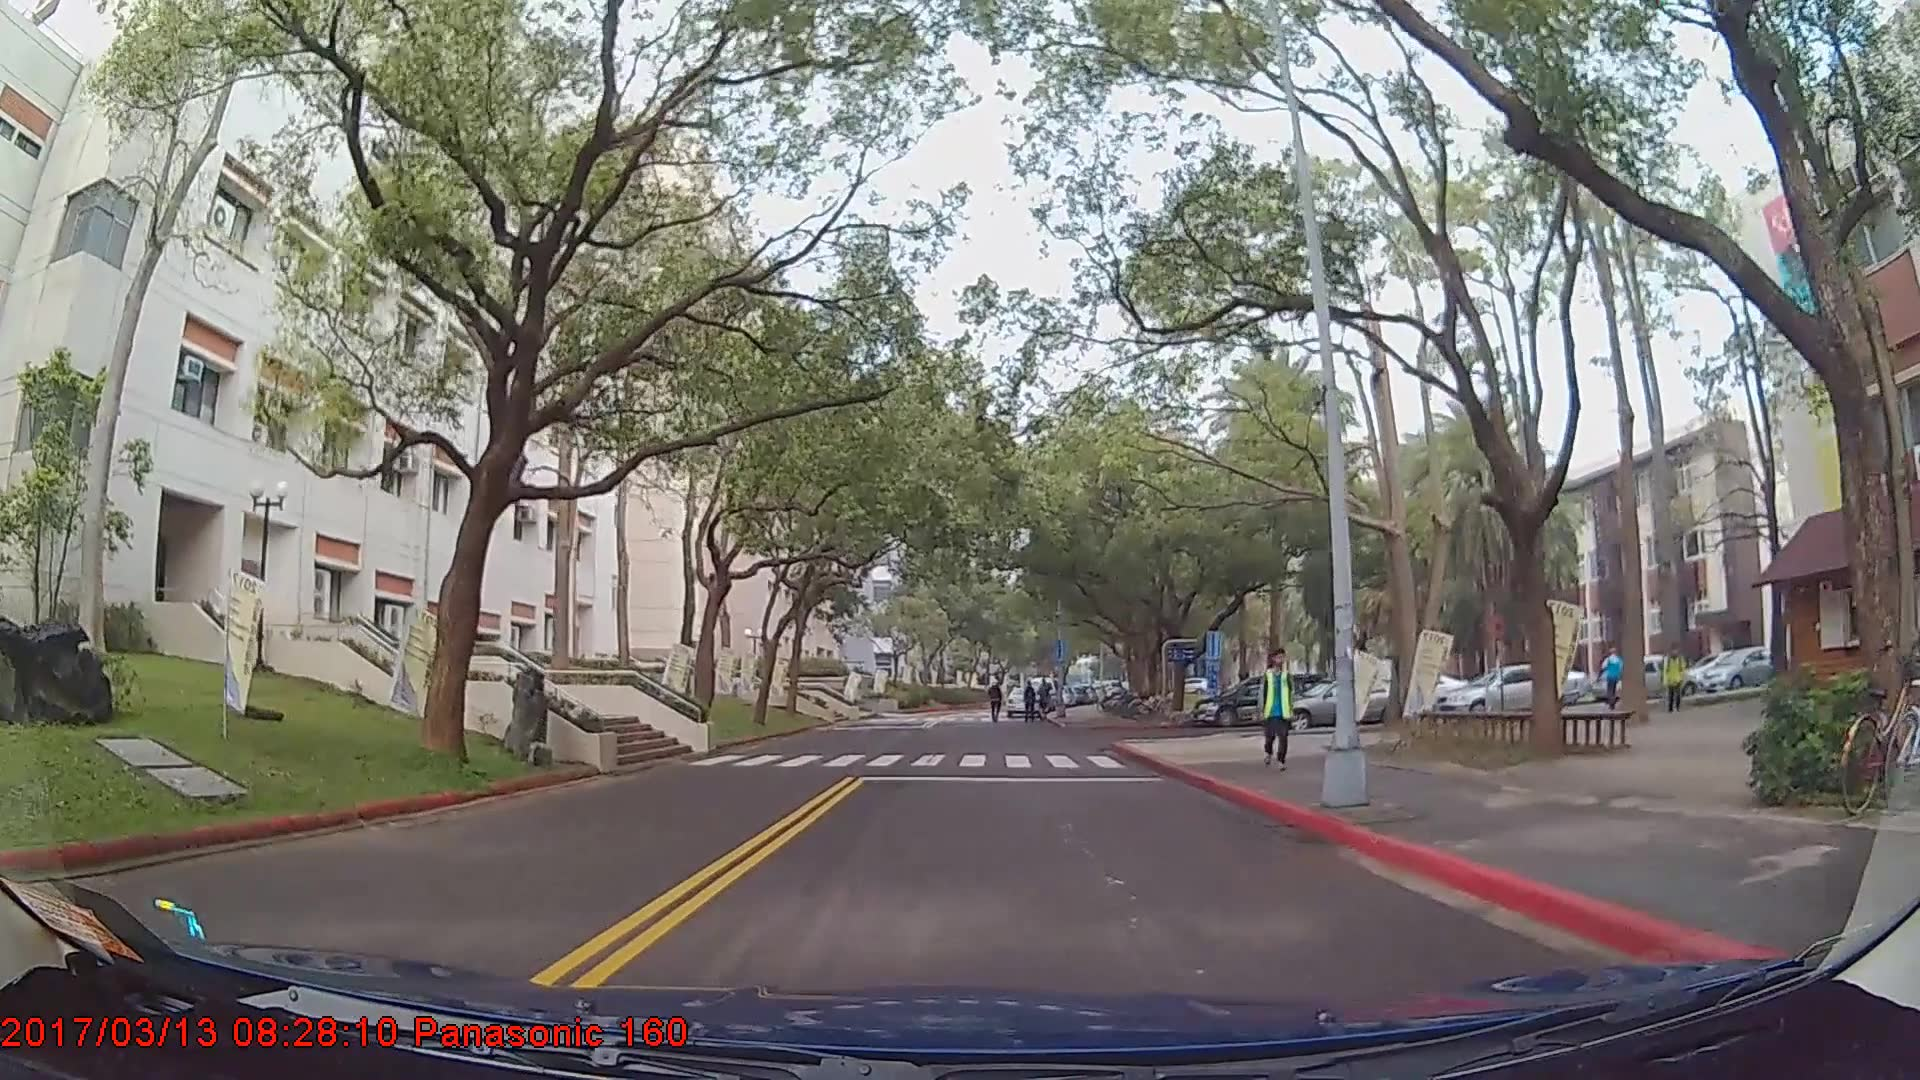pedestrian: (1258, 651, 1300, 778), (1598, 641, 1633, 717), (1663, 648, 1686, 717), (1021, 681, 1041, 726)
vehicle: (1435, 661, 1575, 721), (1281, 676, 1419, 728), (1196, 673, 1318, 728), (1695, 646, 1786, 694)
